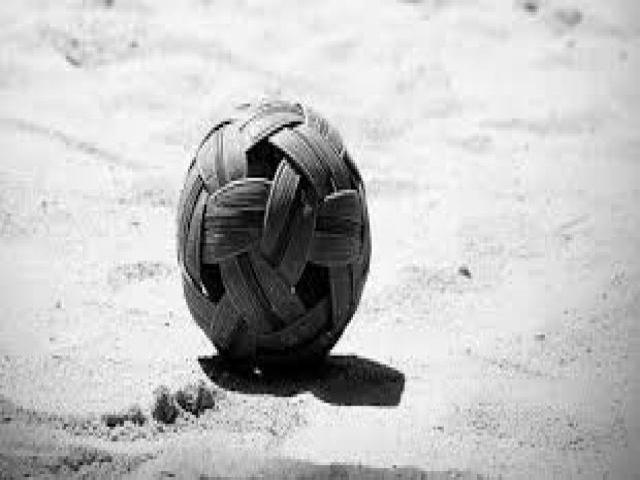round ball: (179, 100, 369, 365)
